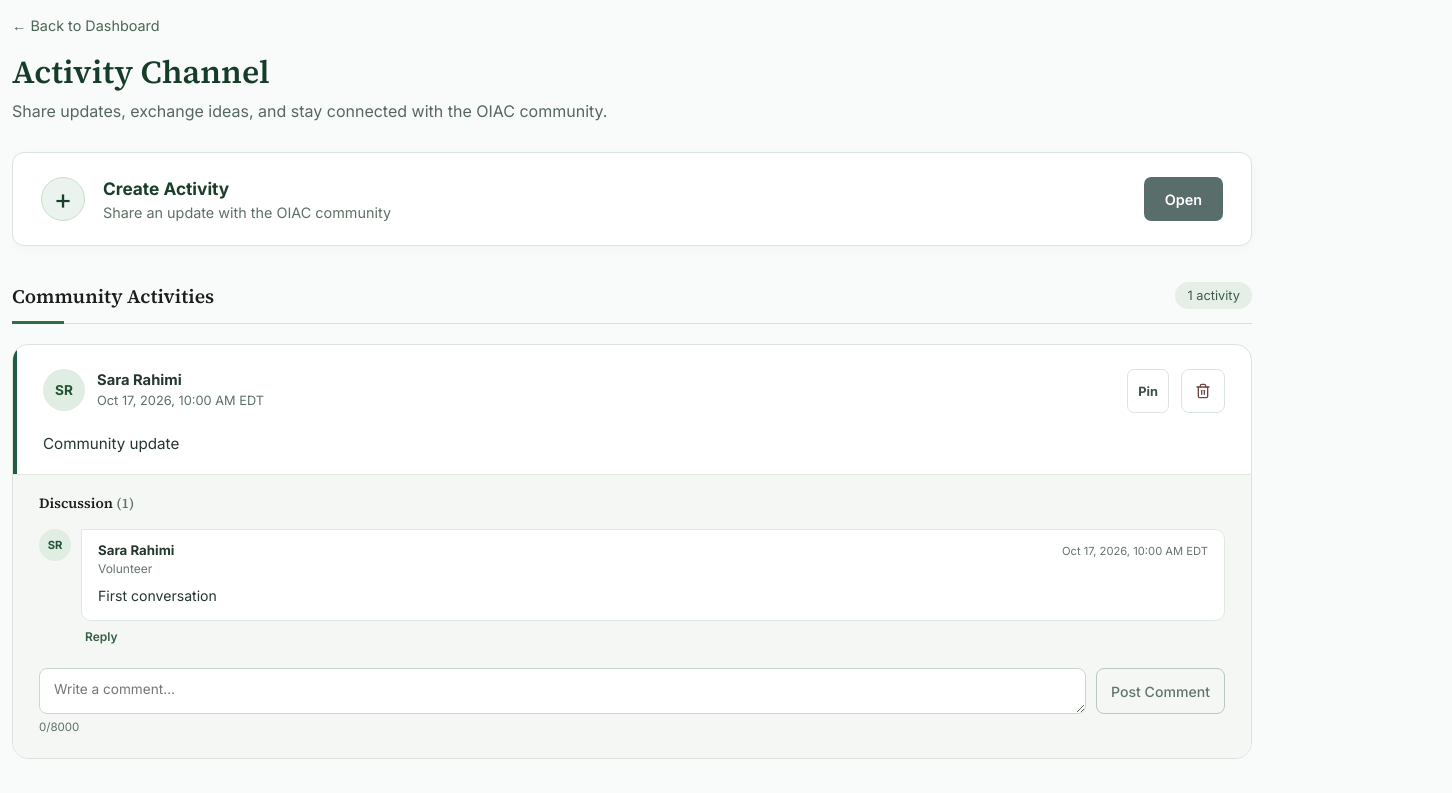
Test: comment and reply drafts stay independent with the immediate reply parent
This screenshot has width=1452, height=793.
Check: the text "First conversation" is shown, box x1=98 y1=587 x2=217 y2=604
Type "Keep my comment" into the text box named "Comment content".
click(562, 691); type("Keep my comment")  # box x1=39 y1=668 x2=1086 y2=714
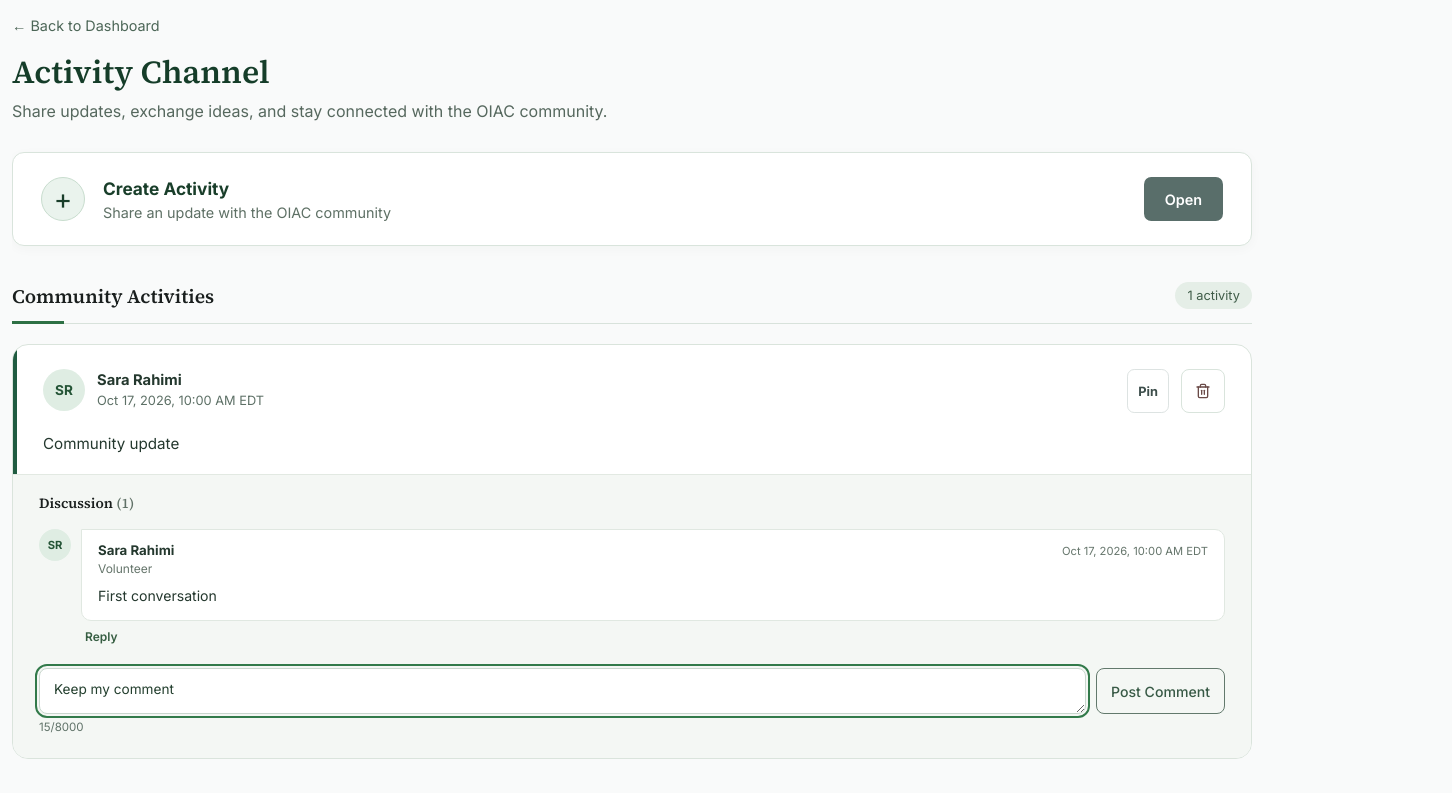
Click the button with aria-label "Reply to Sara Rahimi".
click(101, 637)  # box x1=81 y1=621 x2=122 y2=652
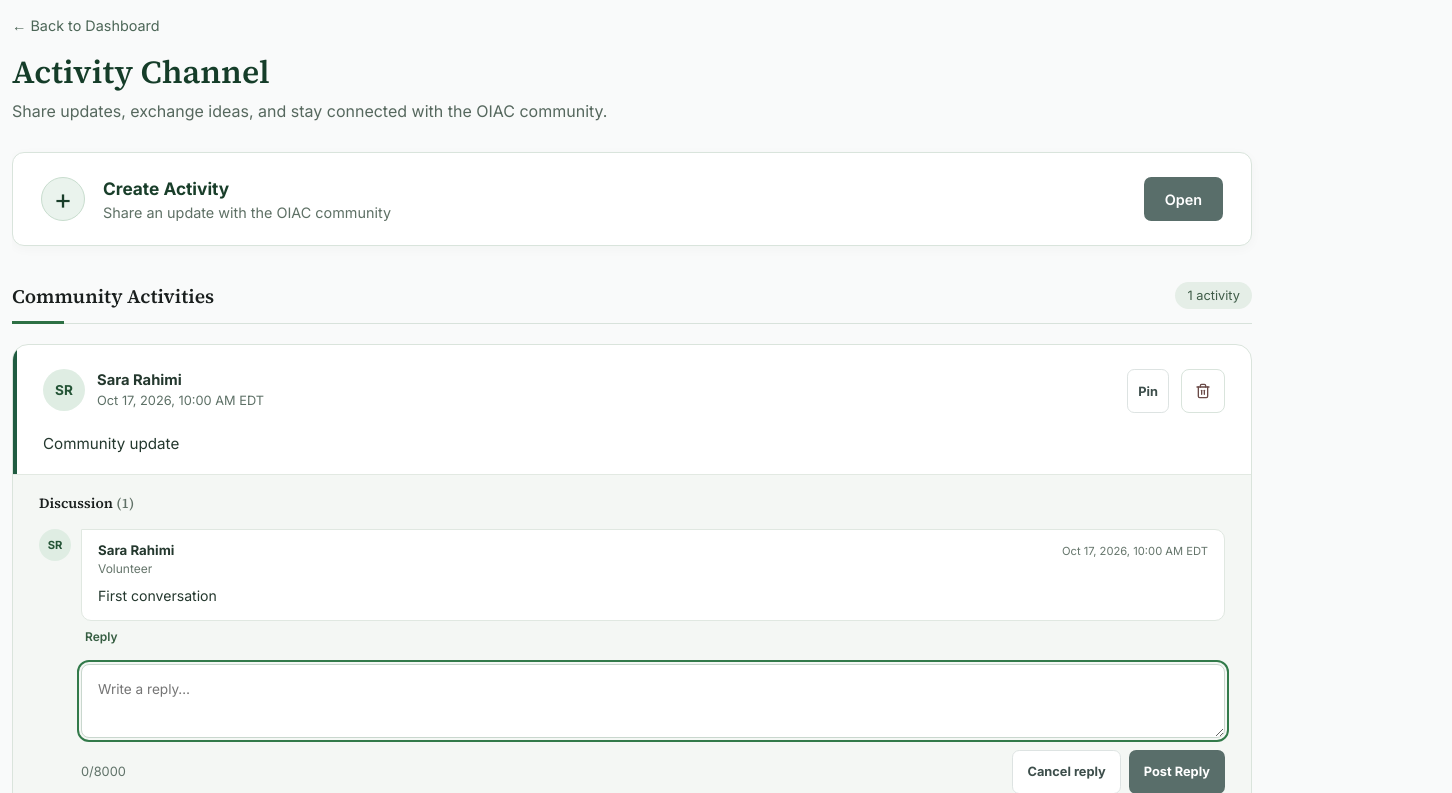
Type "Reply text" into the text box named "Reply content".
click(653, 701); type("Reply text")  # box x1=81 y1=664 x2=1225 y2=738
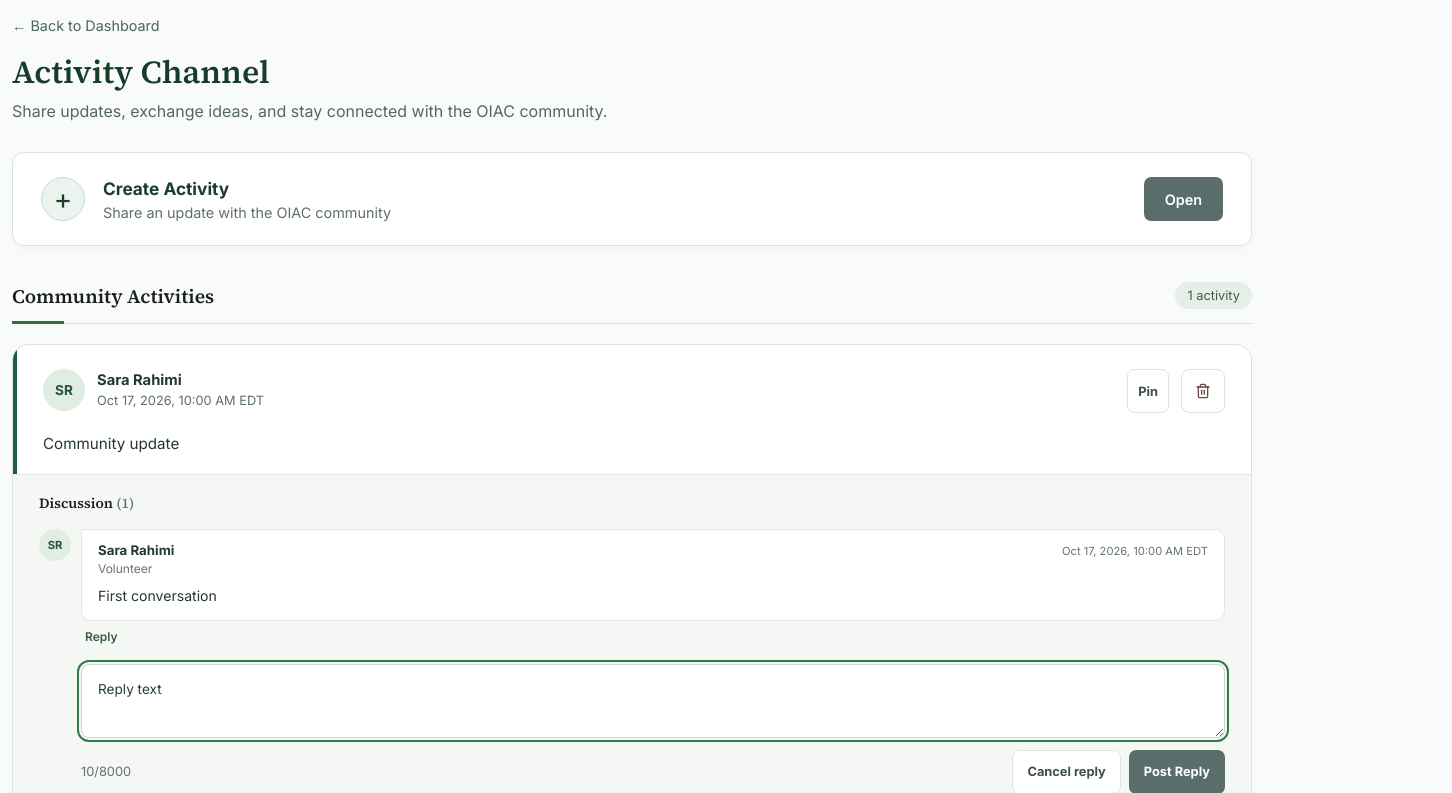
Click the button "Post Reply".
click(1177, 772)  # box x1=1129 y1=750 x2=1225 y2=792
(page scrolled)
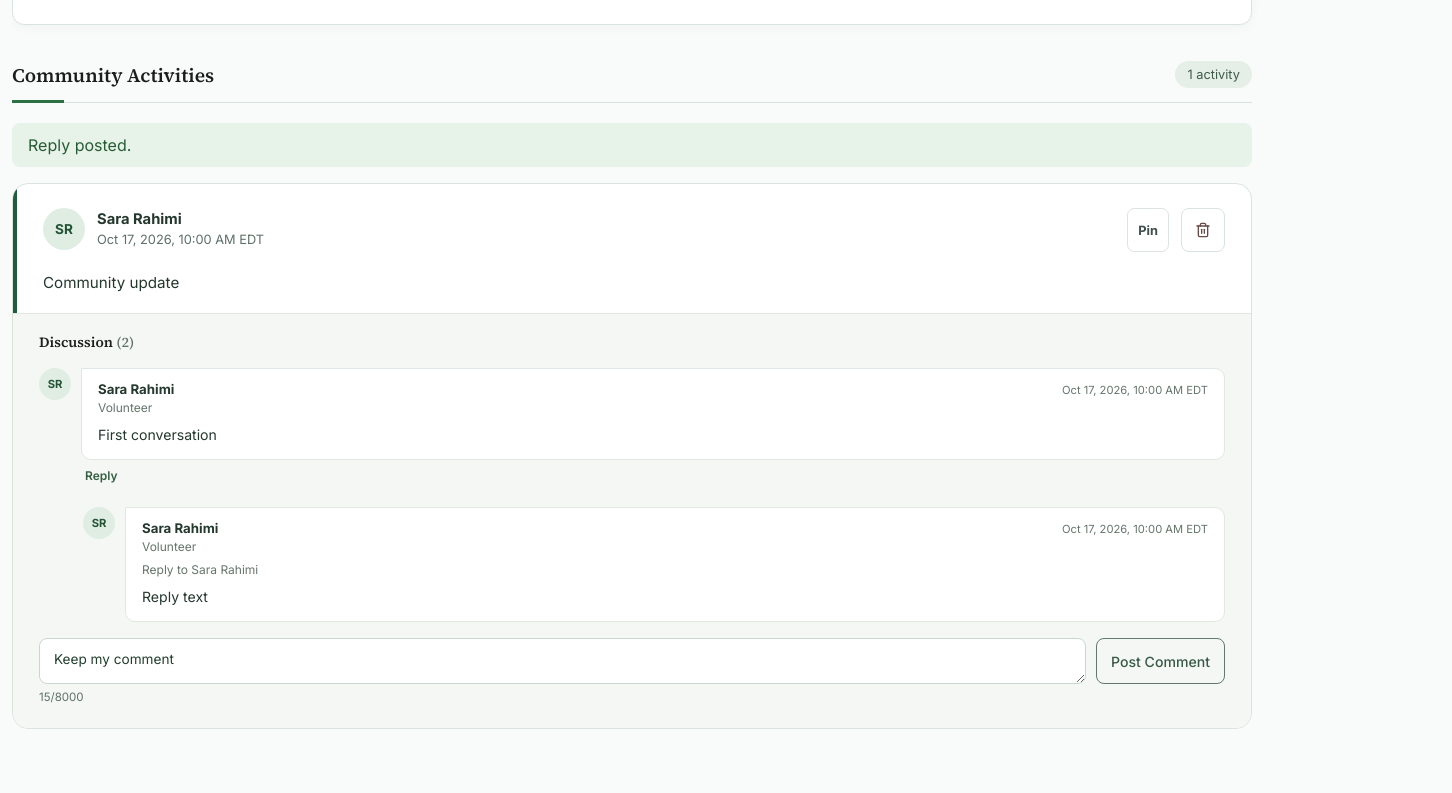
Check: the text "Reply posted." is shown, box x1=12 y1=123 x2=1252 y2=167
